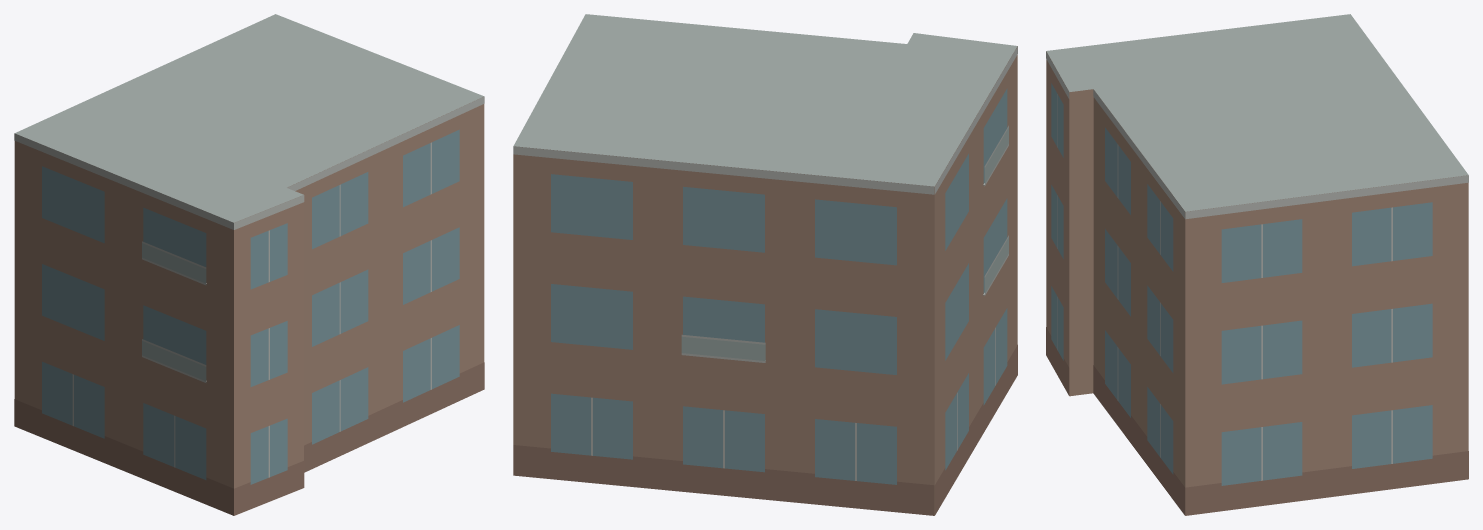
File: survey-upis-32537190.glb
The picture shows the model from 3 angles, left to right: view 1: azimuth 30°, elevation 25°; view 2: azimuth 150°, elevation 25°; view 3: azimuth 270°, elevation 25°; orthographic projection. The views are drawn at different scales.
Visible parts, largest first — view 1: survey-upis-32537190.tmp; view 2: survey-upis-32537190.tmp; view 3: survey-upis-32537190.tmp.
Part boxes in pixels (box(x1,y1,x2,y2)): survey-upis-32537190.tmp: box(14, 14, 484, 515); survey-upis-32537190.tmp: box(513, 14, 1017, 515); survey-upis-32537190.tmp: box(1046, 14, 1468, 515).
Bounding box in the file's own units: 13.67 × 9.8 × 12.35.
